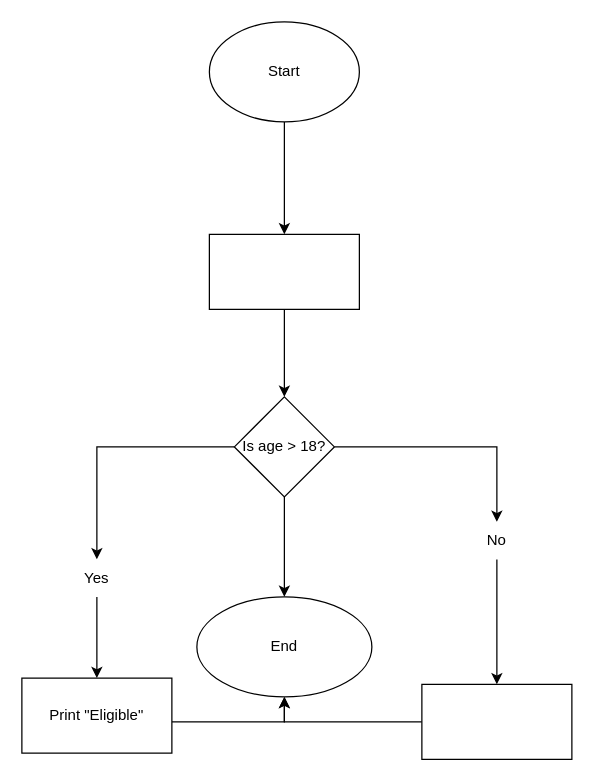
The diagram is 594 pixels wide and 781 high, and some of its shapes have lost their labels. Each missing label, with the centre of its shape:
Input age: point 283,271
Print "Not Eligible": point 496,721
